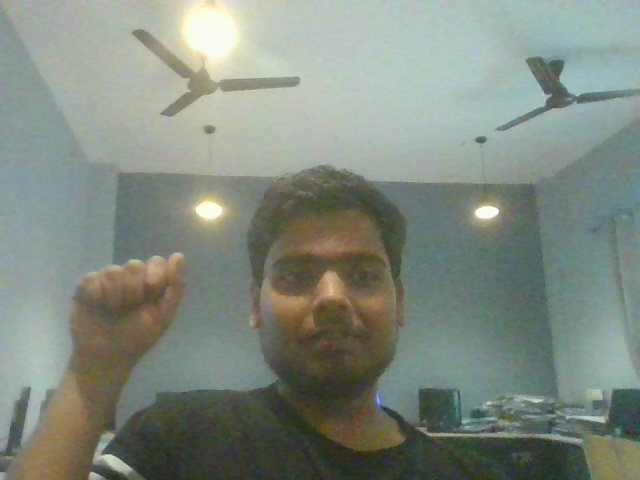A: (56, 226, 211, 384)
